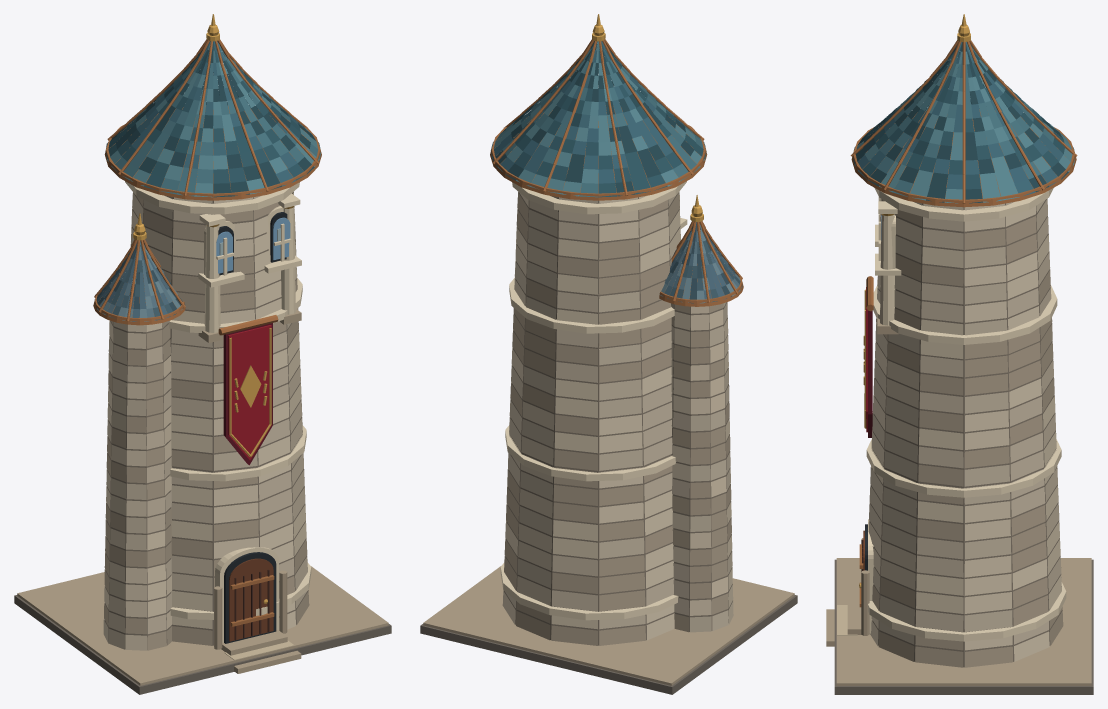
Rendered from watch-nivel-8.glb.
3 views of the same model, side by side, from view 1: azimuth 30°, elevation 25°; view 2: azimuth 150°, elevation 25°; view 3: azimuth 270°, elevation 25° (orthographic). The views are drawn at different scales.
Parts seen in each view (by area): view 1: Vigia 08 #e1d2b8, Vigia 08 #d2c4ad, Vigia 08 #b8a993, Vigia 08 #b4a38a, Vigia 08 #e6d7ba, Vigia 08 #897e6f, Vigia 08 #a76e42, Vigia 08 #46717c, Vigia 08 #305762, Vigia 08 #294952, Vigia 08 #9e2030, Vigia 08 #54818b (+12 smaller); view 2: Vigia 08 #b8a993, Vigia 08 #e1d2b8, Vigia 08 #d2c4ad, Vigia 08 #897e6f, Vigia 08 #b4a38a, Vigia 08 #e6d7ba, Vigia 08 #a76e42, Vigia 08 #305762, Vigia 08 #54818b, Vigia 08 #3b6472, Vigia 08 #294952, Vigia 08 #746c62 (+6 smaller); view 3: Vigia 08 #d2c4ad, Vigia 08 #e1d2b8, Vigia 08 #b8a993, Vigia 08 #b4a38a, Vigia 08 #e6d7ba, Vigia 08 #897e6f, Vigia 08 #a76e42, Vigia 08 #54818b, Vigia 08 #294952, Vigia 08 #305762, Vigia 08 #46717c, Vigia 08 #3b6472 (+3 smaller).
Part boxes in pixels (x1,y1,x2,y2): Vigia 08 #e1d2b8: (104, 192, 306, 650); Vigia 08 #d2c4ad: (103, 191, 307, 642); Vigia 08 #b8a993: (104, 193, 309, 650); Vigia 08 #b4a38a: (17, 309, 388, 685); Vigia 08 #e6d7ba: (125, 181, 311, 643); Vigia 08 #897e6f: (104, 192, 307, 649); Vigia 08 #a76e42: (93, 39, 321, 626); Vigia 08 #46717c: (112, 41, 321, 196); Vigia 08 #305762: (105, 41, 305, 190); Vigia 08 #294952: (108, 47, 318, 197); Vigia 08 #9e2030: (228, 325, 271, 460); Vigia 08 #54818b: (107, 41, 320, 197); Vigia 08 #b8a993: (502, 191, 732, 645); Vigia 08 #e1d2b8: (502, 193, 733, 640); Vigia 08 #d2c4ad: (504, 196, 732, 632); Vigia 08 #897e6f: (504, 192, 732, 645); Vigia 08 #b4a38a: (423, 566, 794, 685); Vigia 08 #e6d7ba: (500, 181, 687, 620); Vigia 08 #a76e42: (490, 39, 743, 306); Vigia 08 #305762: (508, 42, 706, 197); Vigia 08 #54818b: (490, 41, 704, 196); Vigia 08 #3b6472: (491, 41, 683, 183); Vigia 08 #294952: (492, 41, 694, 196); Vigia 08 #746c62: (420, 595, 797, 694); Vigia 08 #d2c4ad: (869, 198, 1061, 644); Vigia 08 #e1d2b8: (868, 198, 1061, 661); Vigia 08 #b8a993: (869, 200, 1063, 667); Vigia 08 #b4a38a: (826, 280, 1091, 685); Vigia 08 #e6d7ba: (866, 188, 1066, 641); Vigia 08 #897e6f: (869, 199, 1061, 667); Vigia 08 #a76e42: (850, 40, 1077, 607); Vigia 08 #54818b: (853, 42, 1074, 203); Vigia 08 #294952: (853, 43, 1068, 203); Vigia 08 #305762: (859, 42, 1064, 189); Vigia 08 #46717c: (877, 42, 1064, 196); Vigia 08 #3b6472: (854, 42, 1063, 195).
Bounding box in the file's own units: 5.1 × 11.63 × 4.53.
